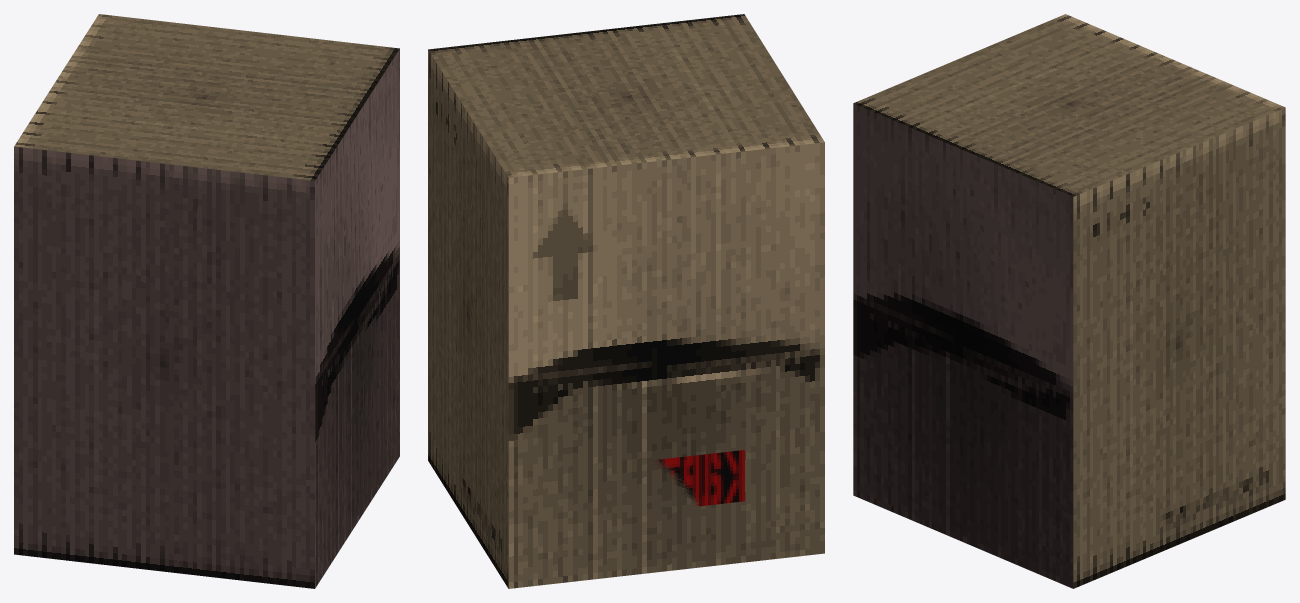
File: primary_222.glb
3 renders of one model, left to right at view 1: azimuth 30°, elevation 25°; view 2: azimuth 150°, elevation 25°; view 3: azimuth 270°, elevation 25°, orthographic. The views are drawn at different scales.
Parts seen in each view (by area): view 1: Object; view 2: Object; view 3: Object.
Boxes of the visible parts, x1=… form: Object: x1=14, y1=14, x2=399, y2=588; Object: x1=428, y1=14, x2=824, y2=588; Object: x1=853, y1=14, x2=1285, y2=588.
Size of the model in its own units: 1.09 by 1.09 by 1.09.
Materials: 7 (7 with a texture image).
